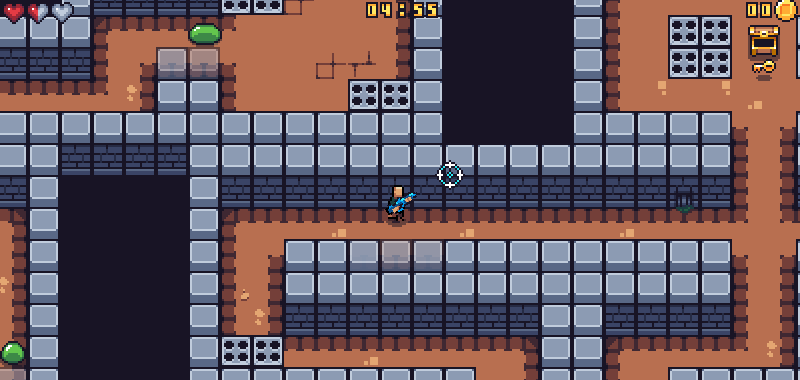enemy_slug: (185, 22, 226, 46), (1, 340, 26, 367)
key: (749, 59, 778, 76)
trap_off: (669, 16, 730, 76), (347, 77, 413, 113), (219, 337, 283, 367)
treasury_open: (746, 23, 783, 60)
